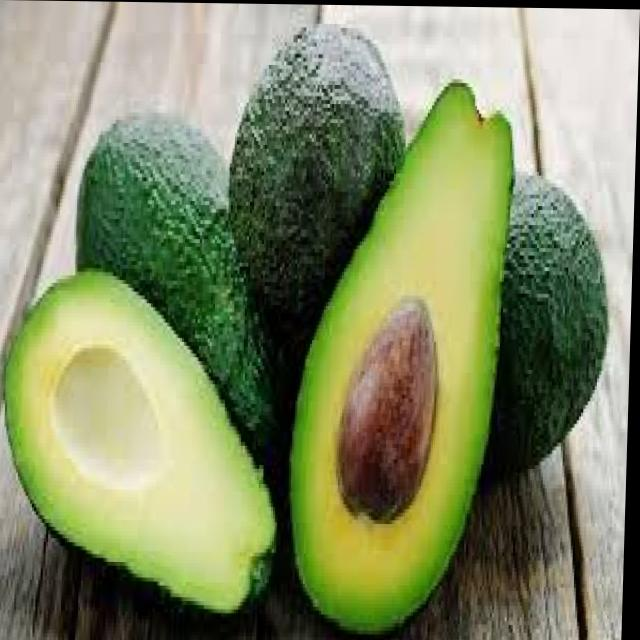Bo: (288, 77, 518, 638), (2, 263, 282, 618)
